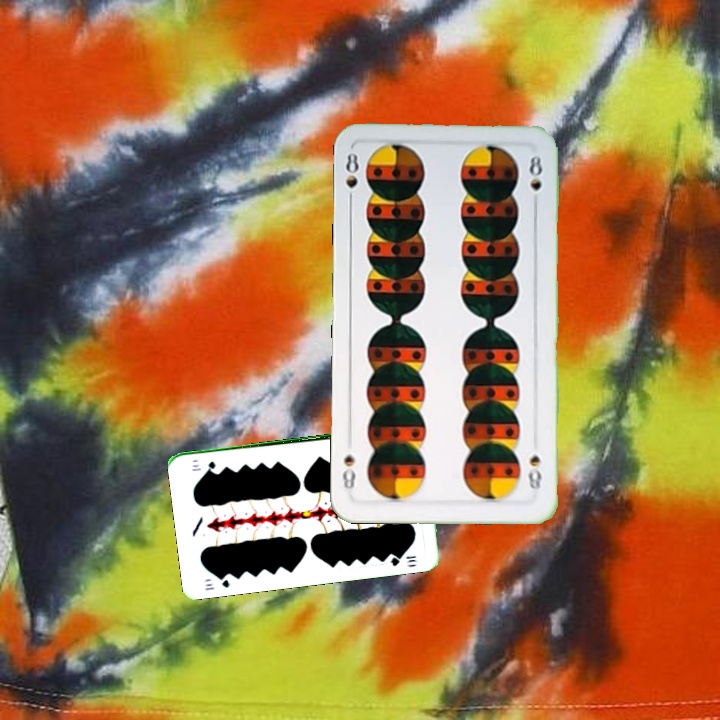G10: (200, 571, 232, 593)
S8: (342, 150, 361, 207), (524, 451, 544, 492)
